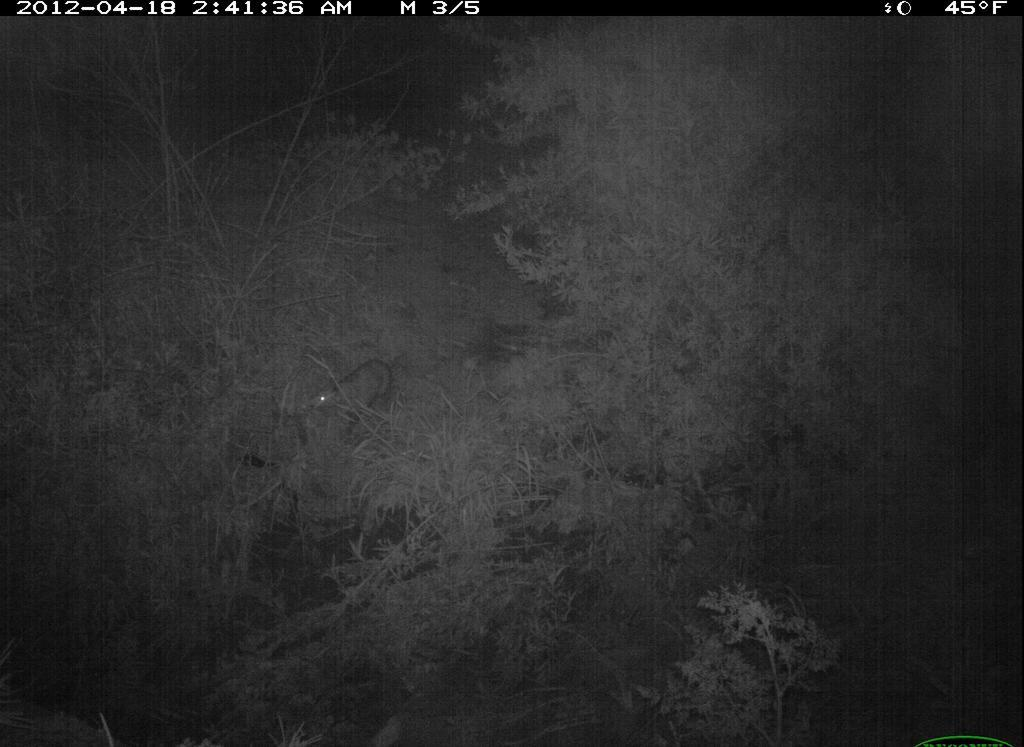opossum: (304, 347, 422, 442)
